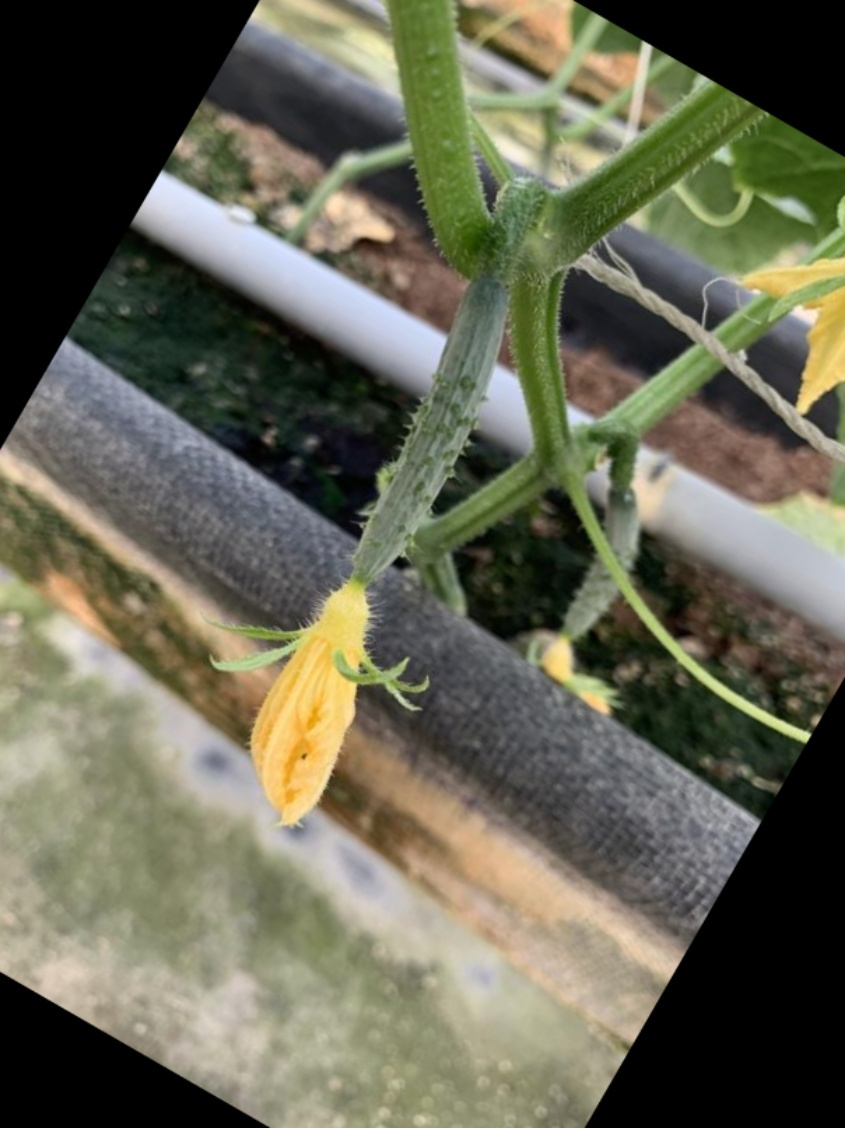bear: (221, 280, 524, 810)
